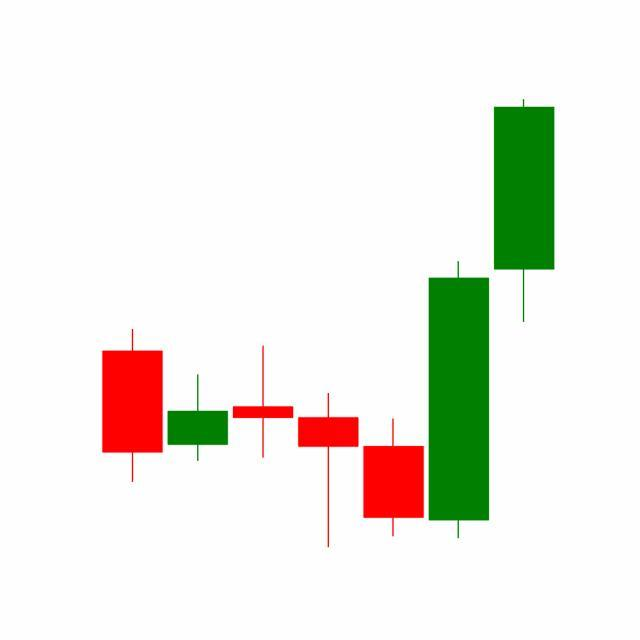Three Line Strike: (230, 257, 492, 548)
